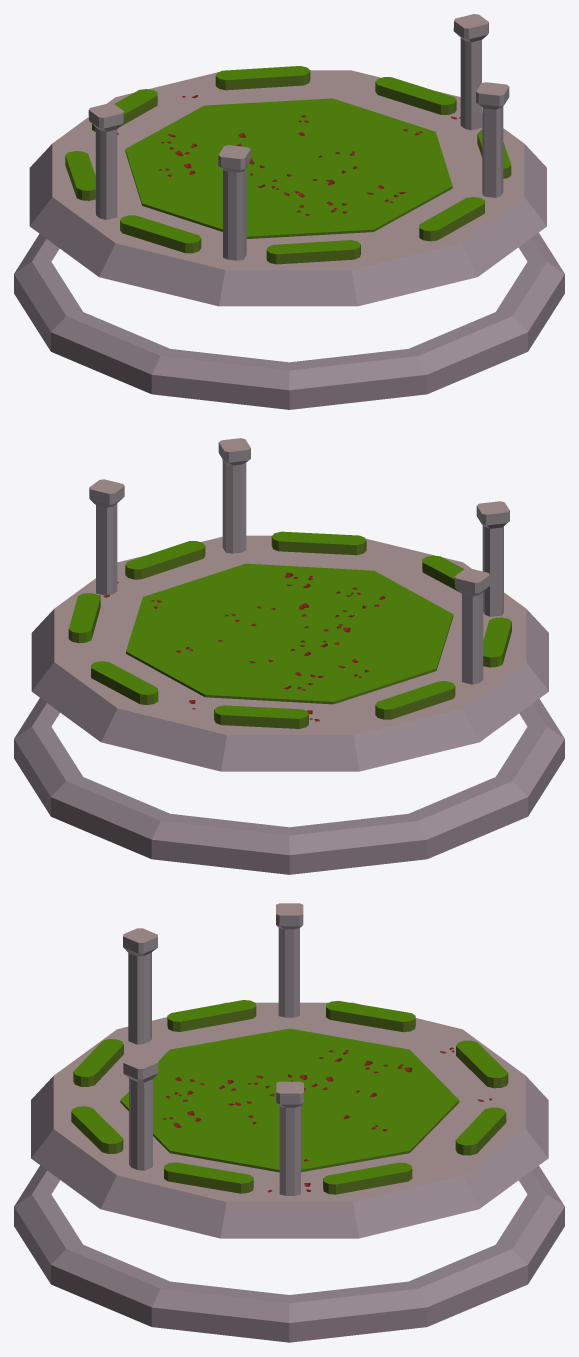
File: PT_Sce_01_a.FBX
3 views of the same model, one above another, from view 1: azimuth 30°, elevation 25°; view 2: azimuth 150°, elevation 25°; view 3: azimuth 270°, elevation 25° (orthographic).
Parts seen in each view (by area): view 1: PT_Sce_01_a; view 2: PT_Sce_01_a; view 3: PT_Sce_01_a.
Boxes of the visible parts, bbox=[...] form: PT_Sce_01_a: bbox=[14, 14, 564, 409]; PT_Sce_01_a: bbox=[14, 438, 564, 874]; PT_Sce_01_a: bbox=[14, 903, 564, 1342].
Bounding box in the file's own units: 3019 × 1375 × 3019.
